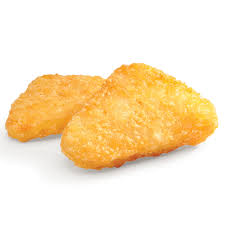fried_dumplings: (76, 72, 194, 152), (14, 74, 113, 134)
